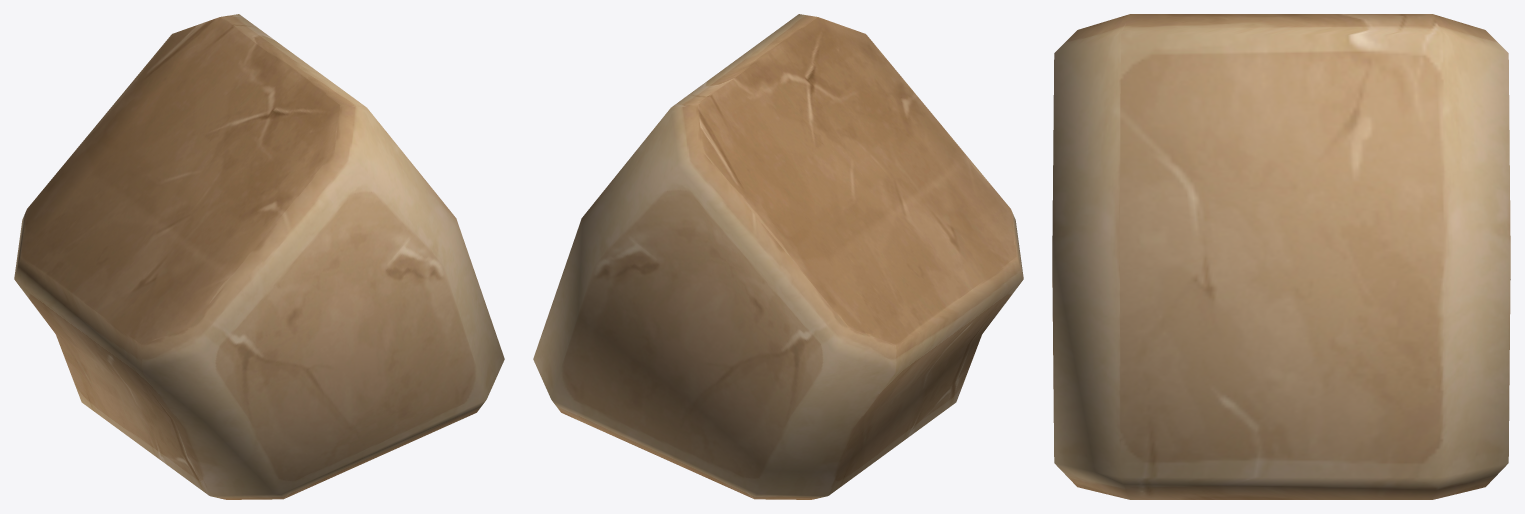
Rendered from DE_House_Mod_Part_63.fbx.
3 renders of one model, left to right at view 1: azimuth 30°, elevation 25°; view 2: azimuth 150°, elevation 25°; view 3: azimuth 270°, elevation 25°, orthographic. The views are drawn at different scales.
Visible parts, largest first — view 1: DE_House_Mod_Part_63; view 2: DE_House_Mod_Part_63; view 3: DE_House_Mod_Part_63.
Boxes of the visible parts, box(x1,y1,x2,y2) form: DE_House_Mod_Part_63: box(14, 14, 504, 499); DE_House_Mod_Part_63: box(533, 14, 1023, 499); DE_House_Mod_Part_63: box(1052, 14, 1510, 499).
Size of the model in its own units: 0.7648 by 0.7398 by 0.6665.
